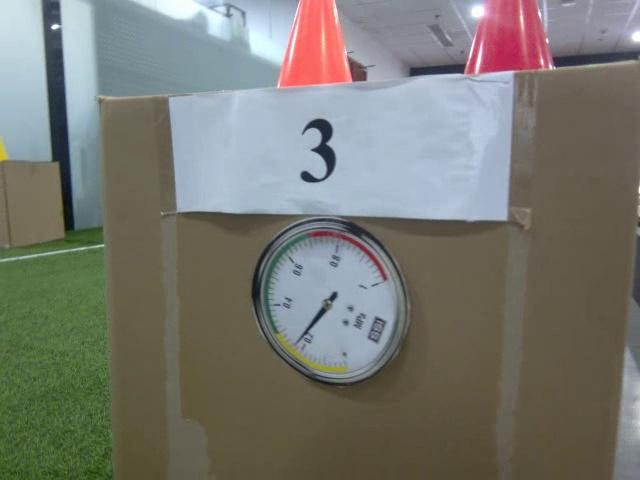3: (300, 115, 334, 188)
Dashboard: (248, 216, 410, 390)
orange_barrel: (275, 0, 356, 88)
red_barrel: (462, 0, 559, 78)
ssi: (366, 312, 386, 344)
